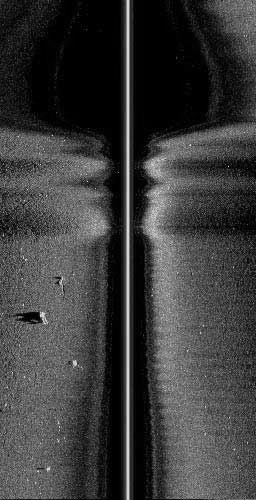man: (10, 310, 49, 325)
